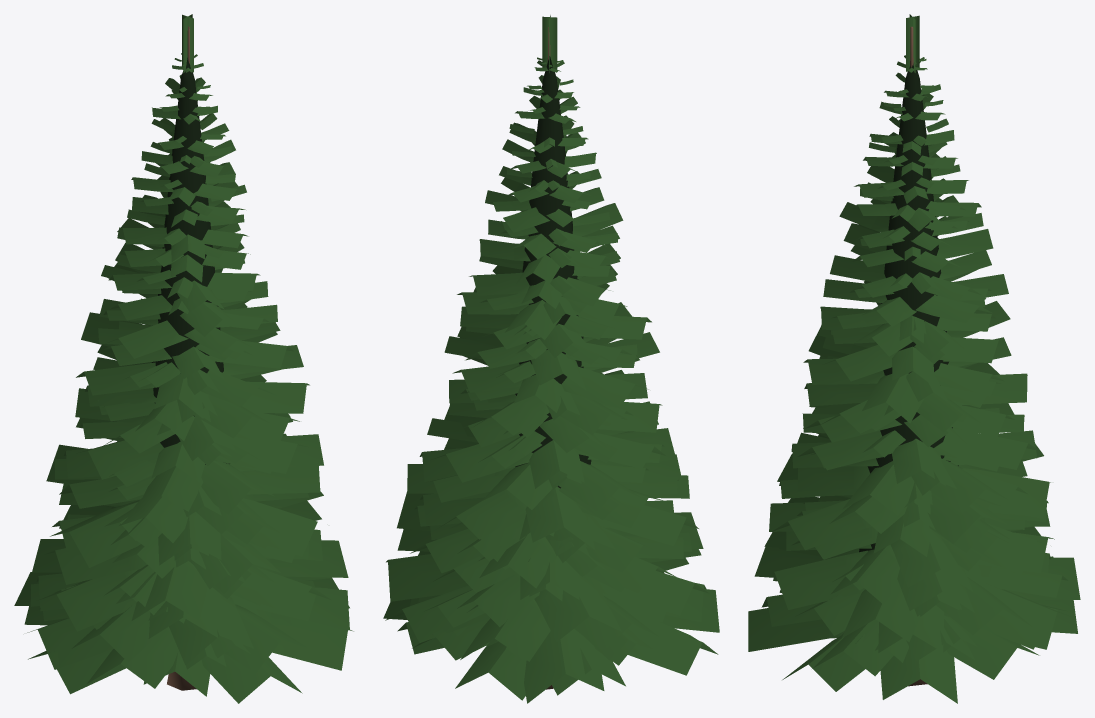
Rendered from tree_forest.glb.
The picture shows the model from 3 angles, left to right: view 1: azimuth 30°, elevation 25°; view 2: azimuth 150°, elevation 25°; view 3: azimuth 270°, elevation 25°; orthographic projection.
Parts seen in each view (by area): view 1: tree_forest_lod0; view 2: tree_forest_lod0; view 3: tree_forest_lod0.
Boxes of the visible parts, x1=… form: tree_forest_lod0: x1=14, y1=14, x2=353, y2=703; tree_forest_lod0: x1=383, y1=15, x2=719, y2=703; tree_forest_lod0: x1=748, y1=14, x2=1080, y2=703.
Size of what is drawn, in the model's own units: 7.74 by 16.75 by 7.57.
